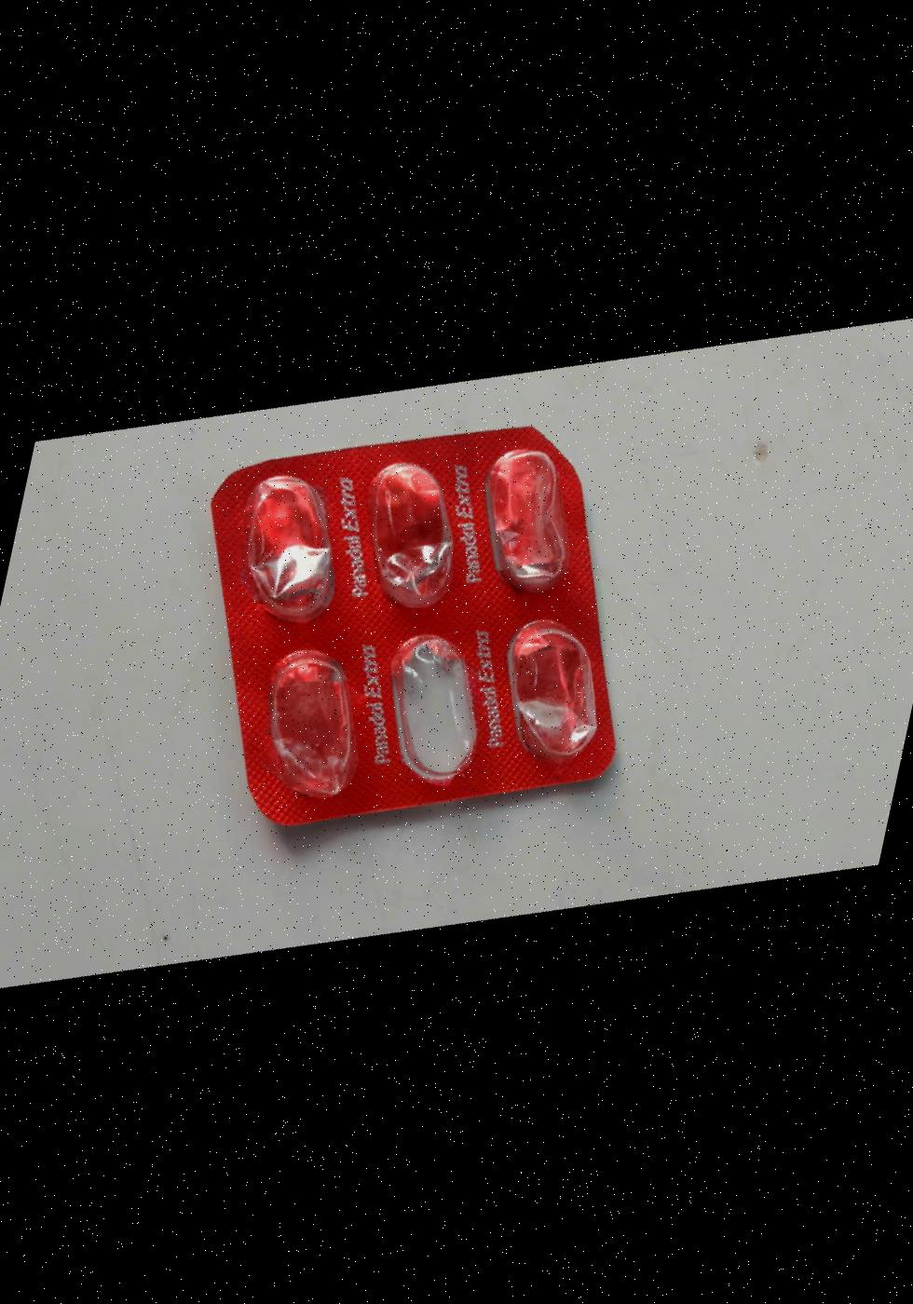Empty: (497, 616, 604, 769), (383, 627, 485, 784), (263, 645, 364, 803), (239, 469, 340, 627), (477, 438, 578, 595), (362, 455, 463, 612)
